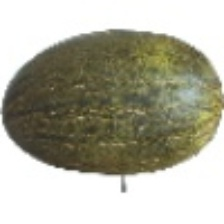honeydew: (24, 31, 186, 169)
